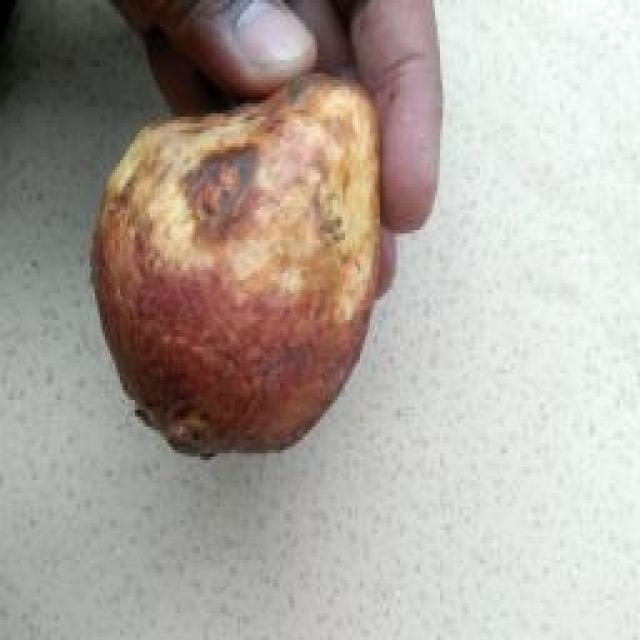Bad_Guava: (92, 75, 380, 452)
